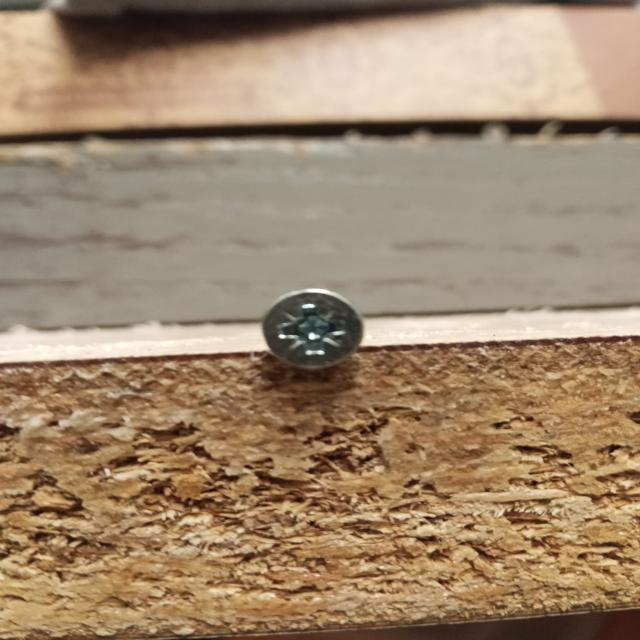pozidriv: (262, 288, 364, 369)
